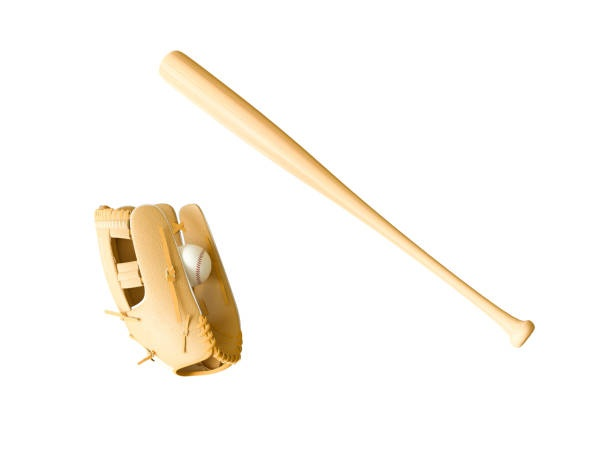bita: (160, 49, 533, 346)
